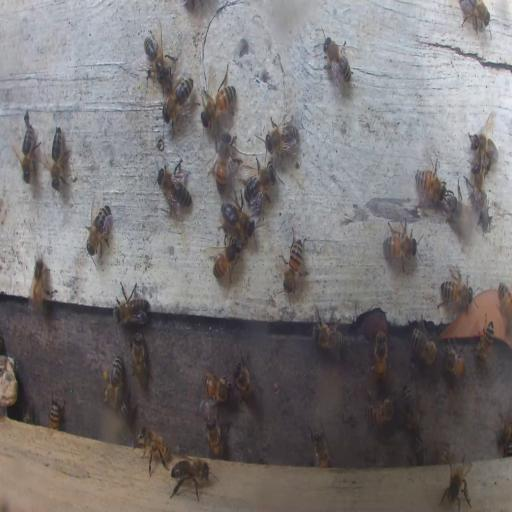nonpollenbee: (156, 157, 192, 217), (242, 154, 278, 212), (382, 217, 422, 268), (168, 456, 214, 500), (320, 32, 353, 89), (162, 74, 194, 132), (440, 454, 472, 512), (232, 356, 262, 416), (200, 78, 235, 128), (142, 30, 174, 83), (464, 162, 490, 226), (45, 124, 69, 192), (85, 202, 113, 258), (310, 308, 344, 354), (138, 427, 171, 474), (212, 235, 243, 285), (15, 119, 38, 182), (266, 114, 300, 156), (115, 282, 149, 324), (438, 270, 472, 310), (283, 232, 304, 296), (414, 161, 446, 203), (220, 202, 254, 240), (129, 332, 151, 388), (215, 132, 235, 190), (410, 325, 438, 366), (469, 129, 497, 169), (29, 257, 50, 309), (448, 194, 474, 236), (458, 1, 492, 32), (402, 383, 422, 433), (366, 394, 396, 426), (474, 316, 494, 362), (311, 426, 332, 468), (205, 416, 225, 460), (203, 371, 231, 402), (373, 328, 388, 384), (442, 345, 466, 378), (499, 277, 511, 336), (498, 413, 511, 454), (48, 399, 62, 430), (414, 437, 424, 463), (440, 444, 450, 465)
pollenbee: (101, 357, 124, 411)
